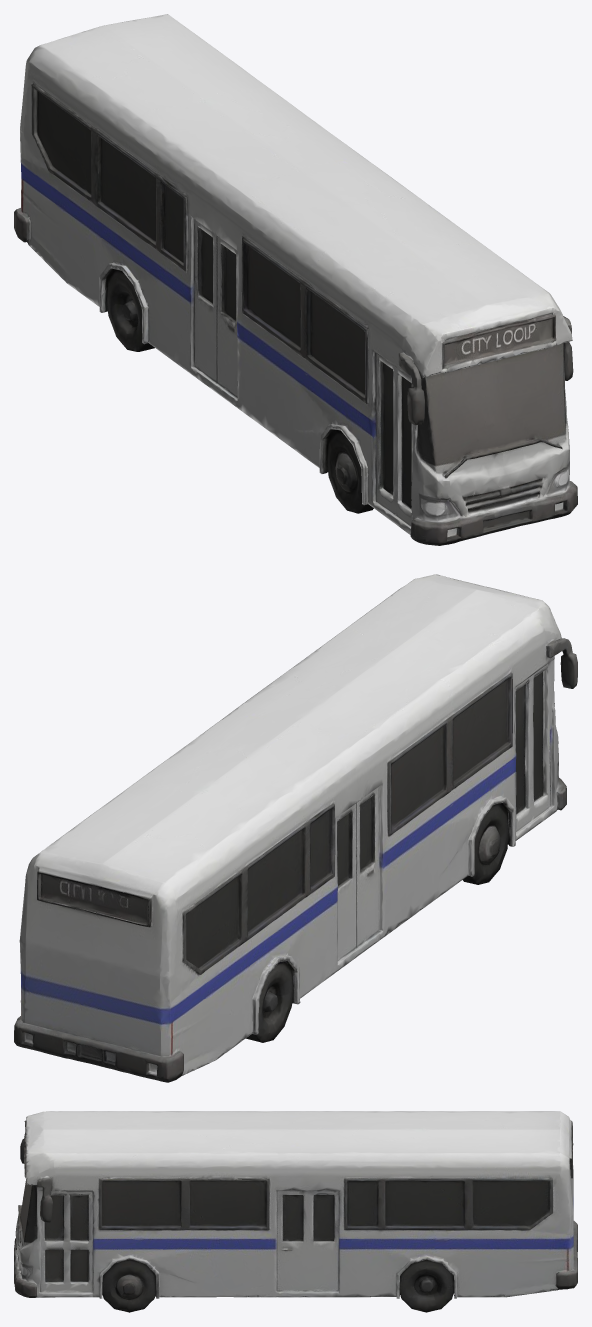
Rendered from onibus_grande.glb.
3 views of the same model, one above another, from view 1: azimuth 30°, elevation 25°; view 2: azimuth 150°, elevation 25°; view 3: azimuth 270°, elevation 25° (orthographic). The views are drawn at different scales.
Parts seen in each view (by area): view 1: tripo_node_becd3fd6-118f-4911-8094-139065b87911; view 2: tripo_node_becd3fd6-118f-4911-8094-139065b87911; view 3: tripo_node_becd3fd6-118f-4911-8094-139065b87911.
Part boxes in pixels (<box>): tripo_node_becd3fd6-118f-4911-8094-139065b87911: <box>14,14,577,545</box>; tripo_node_becd3fd6-118f-4911-8094-139065b87911: <box>14,574,577,1082</box>; tripo_node_becd3fd6-118f-4911-8094-139065b87911: <box>14,1111,577,1312</box>.
Size of the model in its own units: 2.7 by 3.4 by 11.
1 material, 1 textured.
